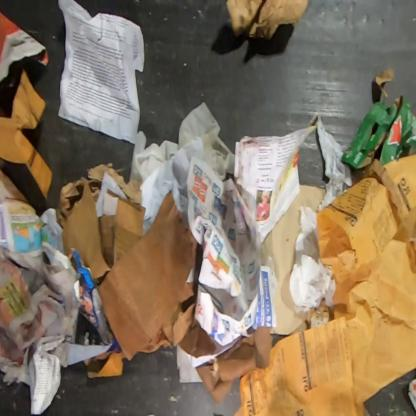cardboard: (97, 191, 219, 361), (263, 185, 327, 335), (62, 172, 146, 284), (341, 67, 415, 169), (194, 327, 274, 405), (225, 0, 309, 41)
